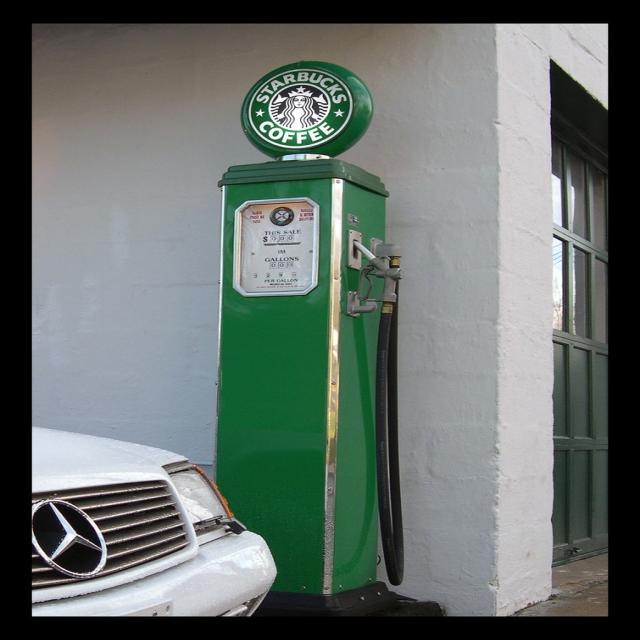starbucks: (245, 68, 356, 149)
